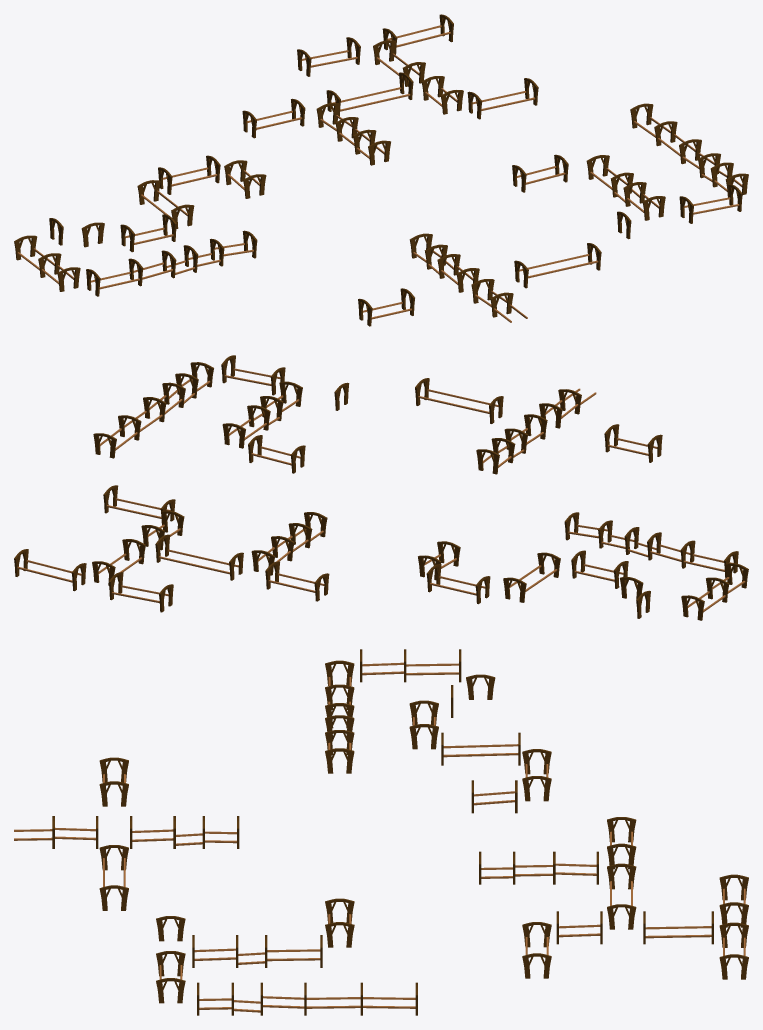
File: Oboki.fbx
3 renders of one model, top to bottom at view 1: azimuth 30°, elevation 25°; view 2: azimuth 150°, elevation 25°; view 3: azimuth 270°, elevation 25°, orthographic. The views are drawn at different scales.
Visible parts, largest first — view 1: Planks; view 2: Planks; view 3: Planks.
Boxes of the visible parts, x1,y1,x2,y2 form: Planks: (14,14,748,326); Planks: (14,355,748,620); Planks: (14,649,748,1015).
Size of the model in its own units: 5622 by 185 by 5049.
